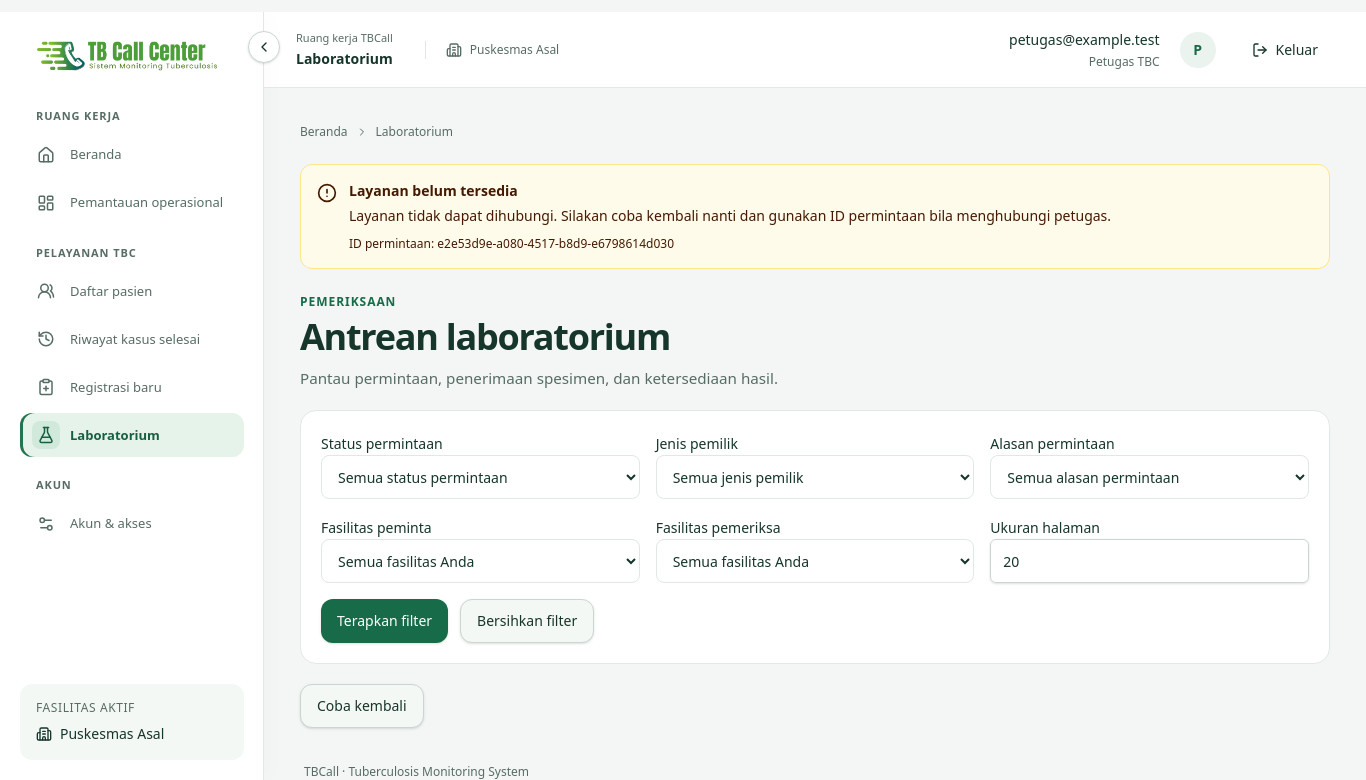
Test: empty and safe service-error queue states support retry
Click the button "Coba kembali" at [362, 706], box [300,684,424,728]
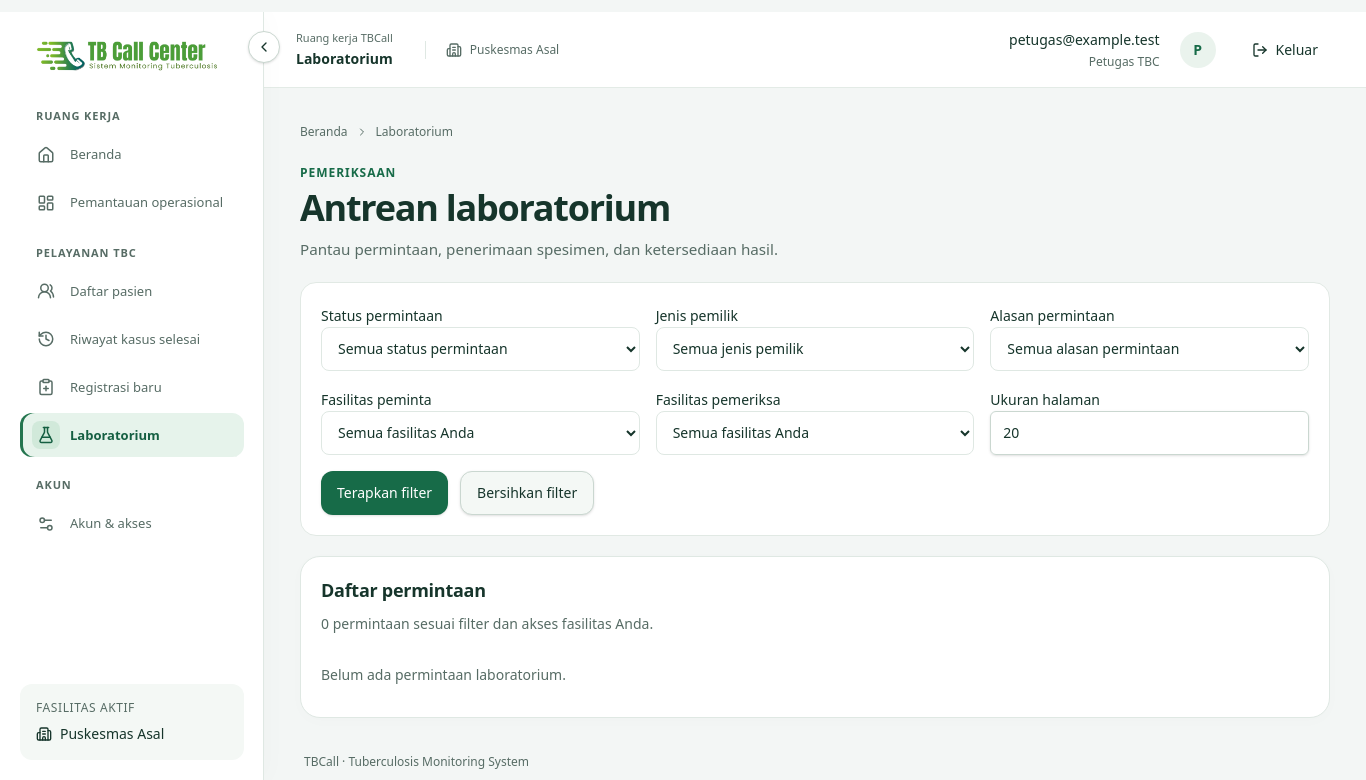
Check: the text "Belum ada permintaan laboratorium." is shown, box [321,664,566,684]
